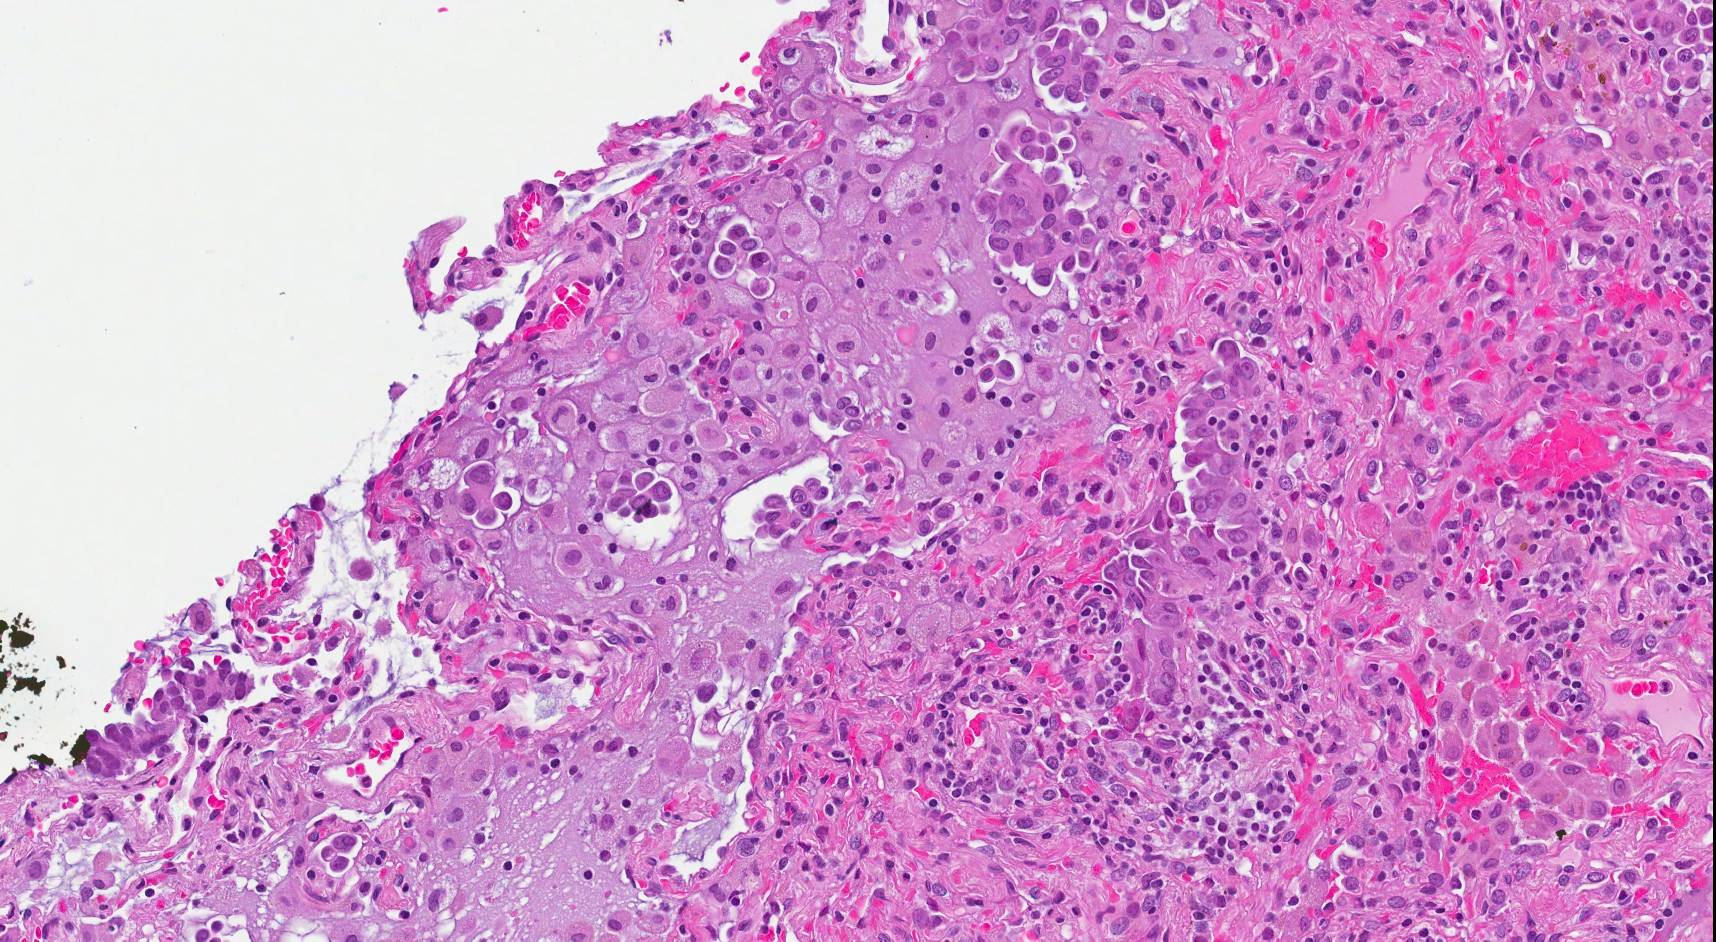stas: (969, 125, 1100, 290), (73, 659, 255, 777), (747, 472, 835, 547), (1033, 29, 1113, 106), (602, 458, 679, 533), (708, 221, 775, 301), (452, 462, 516, 529), (320, 828, 362, 882), (976, 343, 1022, 385)
